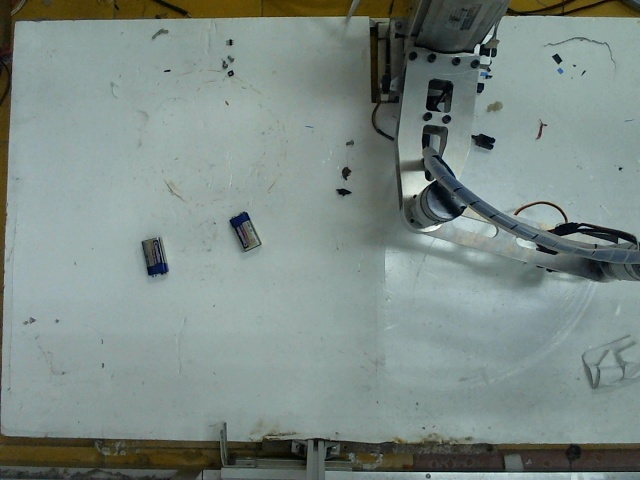battery: (223, 205, 262, 253), (137, 232, 171, 277)
